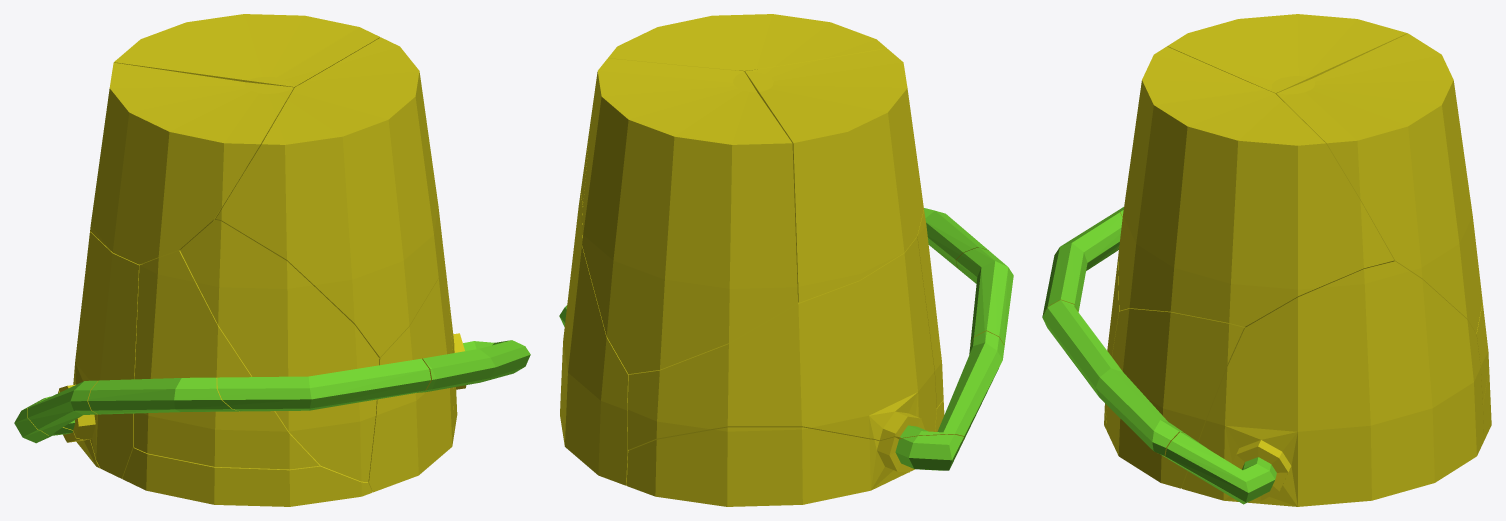
The model's file is bucketBroken.fbx.
3 renders of one model, left to right at view 1: azimuth 30°, elevation 25°; view 2: azimuth 150°, elevation 25°; view 3: azimuth 270°, elevation 25°, orthographic.
Parts seen in each view (by area): view 1: Sphere_cell.001, Sphere_cell.007, Sphere_cell.011, Sphere_cell.012, Sphere_cell.003, Sphere_cell.005, Sphere_cell.010, Sphere_cell.008, Sphere_cell.006, Sphere_cell.002, Sphere_cell.009, Sphere_cell (+1 smaller); view 2: Sphere_cell.003, Sphere_cell.005, Sphere_cell.007, Sphere_cell, Sphere_cell.004, Sphere_cell.001, Sphere_cell.002, Sphere_cell.012, Sphere_cell.006; view 3: Sphere_cell.004, Sphere_cell.001, Sphere_cell.003, Sphere_cell.010, Sphere_cell.007, Sphere_cell.009, Sphere_cell.006, Sphere_cell.005, Sphere_cell.011.
Boxes of the visible parts, x1,y1,x2,y2 form: Sphere_cell.001: [215, 37, 442, 357]; Sphere_cell.007: [90, 62, 293, 264]; Sphere_cell.011: [180, 219, 379, 481]; Sphere_cell.012: [133, 250, 319, 469]; Sphere_cell.003: [114, 14, 380, 220]; Sphere_cell.005: [27, 231, 142, 478]; Sphere_cell.010: [368, 244, 453, 492]; Sphere_cell.008: [122, 447, 372, 506]; Sphere_cell.006: [217, 358, 430, 411]; Sphere_cell.002: [88, 377, 239, 414]; Sphere_cell.009: [417, 340, 530, 392]; Sphere_cell: [14, 390, 99, 468]; Sphere_cell.003: [582, 58, 797, 374]; Sphere_cell.005: [627, 237, 1004, 450]; Sphere_cell.007: [745, 48, 923, 302]; Sphere_cell: [626, 427, 963, 506]; Sphere_cell.004: [559, 192, 628, 485]; Sphere_cell.001: [580, 14, 886, 206]; Sphere_cell.002: [956, 247, 1013, 345]; Sphere_cell.012: [917, 210, 943, 407]; Sphere_cell.006: [924, 208, 988, 268]; Sphere_cell.004: [1165, 261, 1483, 506]; Sphere_cell.001: [1118, 46, 1394, 327]; Sphere_cell.003: [1276, 33, 1482, 333]; Sphere_cell.010: [1106, 308, 1244, 488]; Sphere_cell.007: [1167, 14, 1407, 107]; Sphere_cell.009: [1042, 300, 1183, 458]; Sphere_cell.006: [1043, 212, 1122, 313]; Sphere_cell.005: [1476, 303, 1489, 404]; Sphere_cell.011: [1104, 259, 1119, 416].
Bounding box in the file's own units: 142 × 106 × 125.
